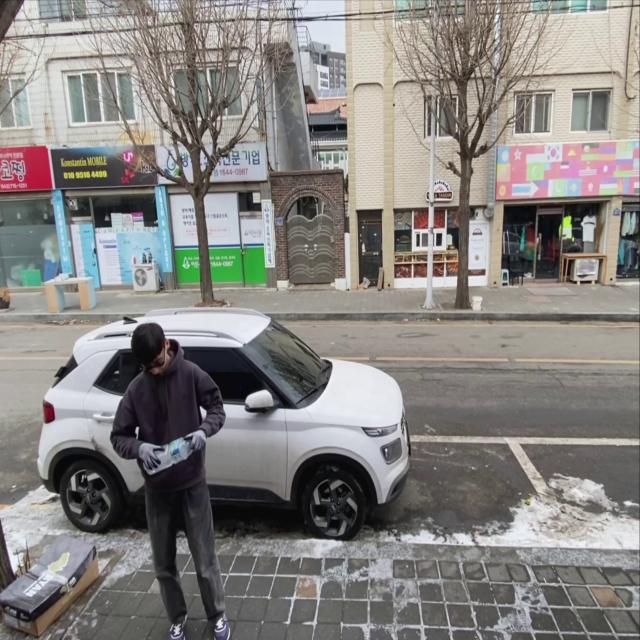gloved_hand: (137, 438, 167, 476), (179, 424, 209, 454)
